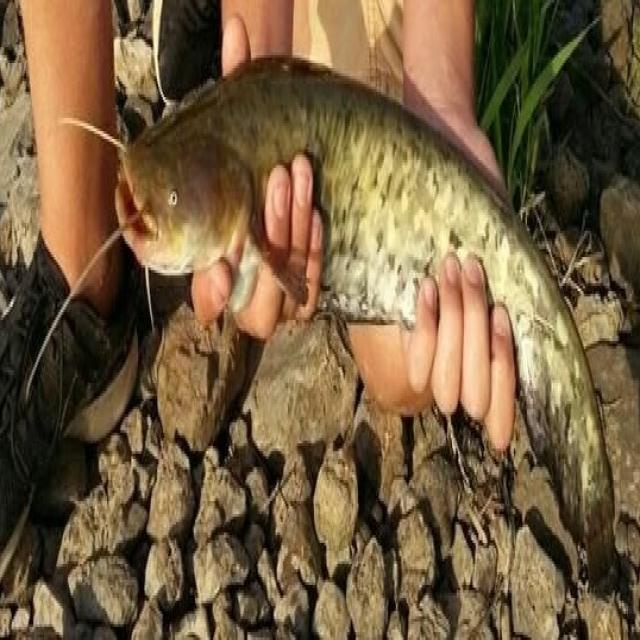Catfish: (71, 42, 624, 579)
